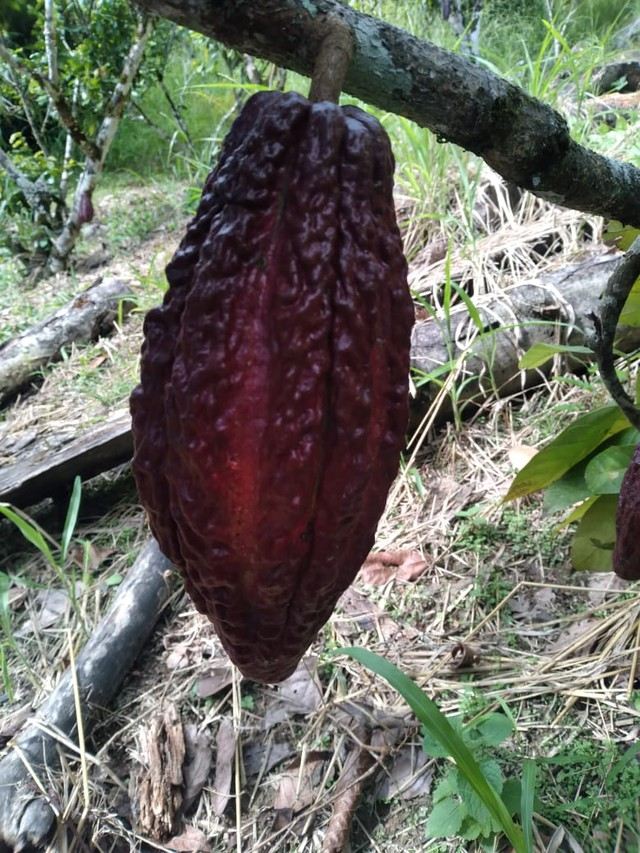Health: (87, 71, 454, 712)
